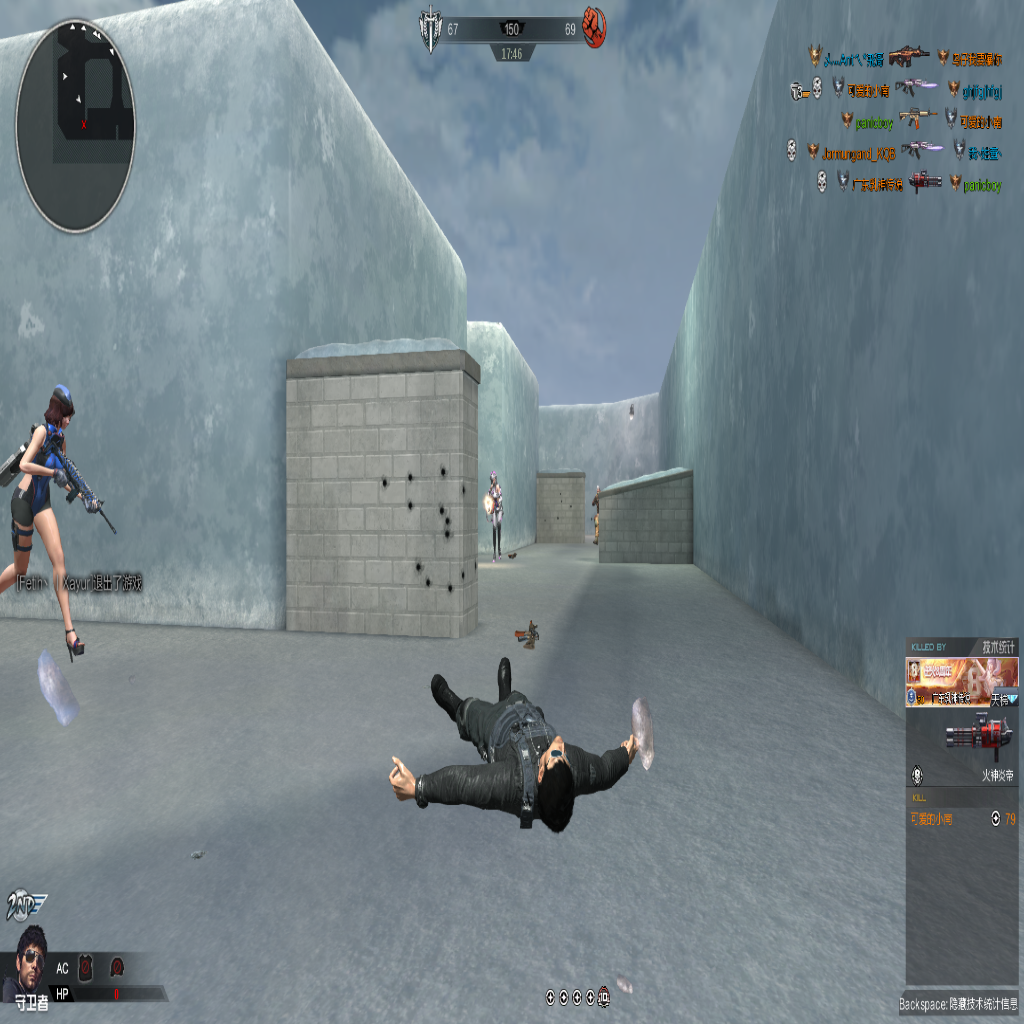ct: (0, 381, 97, 680)
tt: (484, 472, 505, 558), (591, 485, 599, 544)
